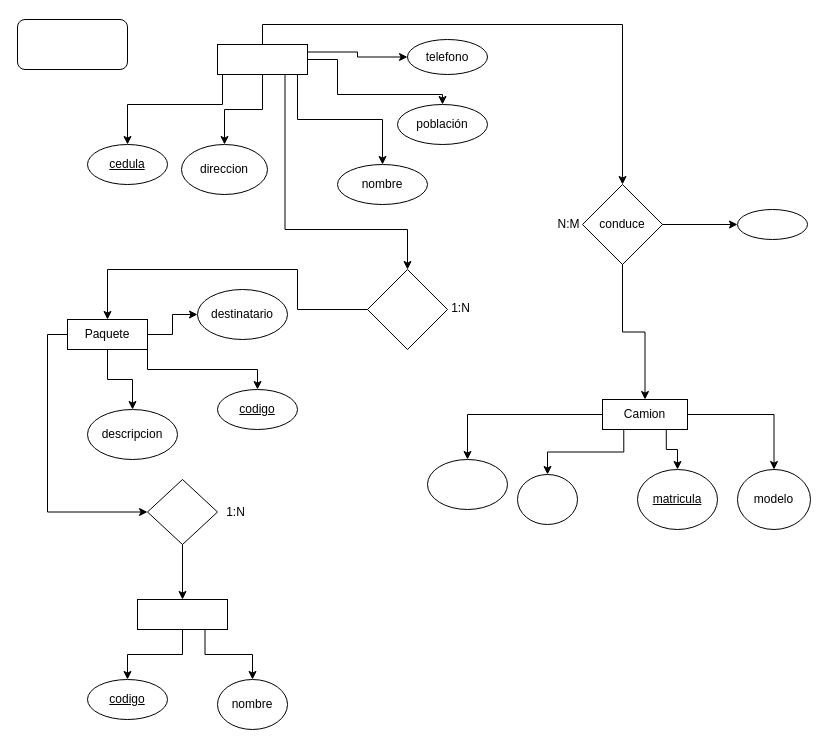
This 828x747 diagram has some shape labels left out. Each missing label, with the centre of its shape:
BD: Empresa de transporte: the point at 72,44
Camionero: the point at 262,59
distribuye: the point at 407,309
fecha: the point at 772,224
llega: the point at 182,511
potencia: the point at 467,484
Provincia: the point at 182,614
tipo: the point at 547,499
